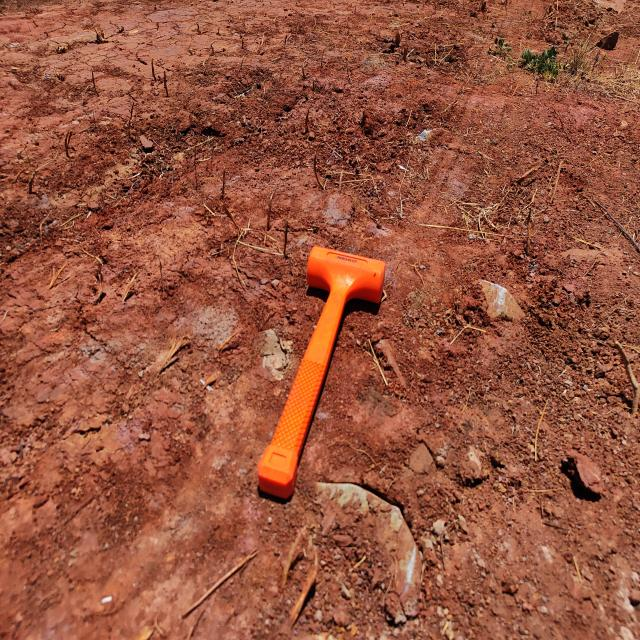Orange_hammer: (256, 243, 386, 501)
